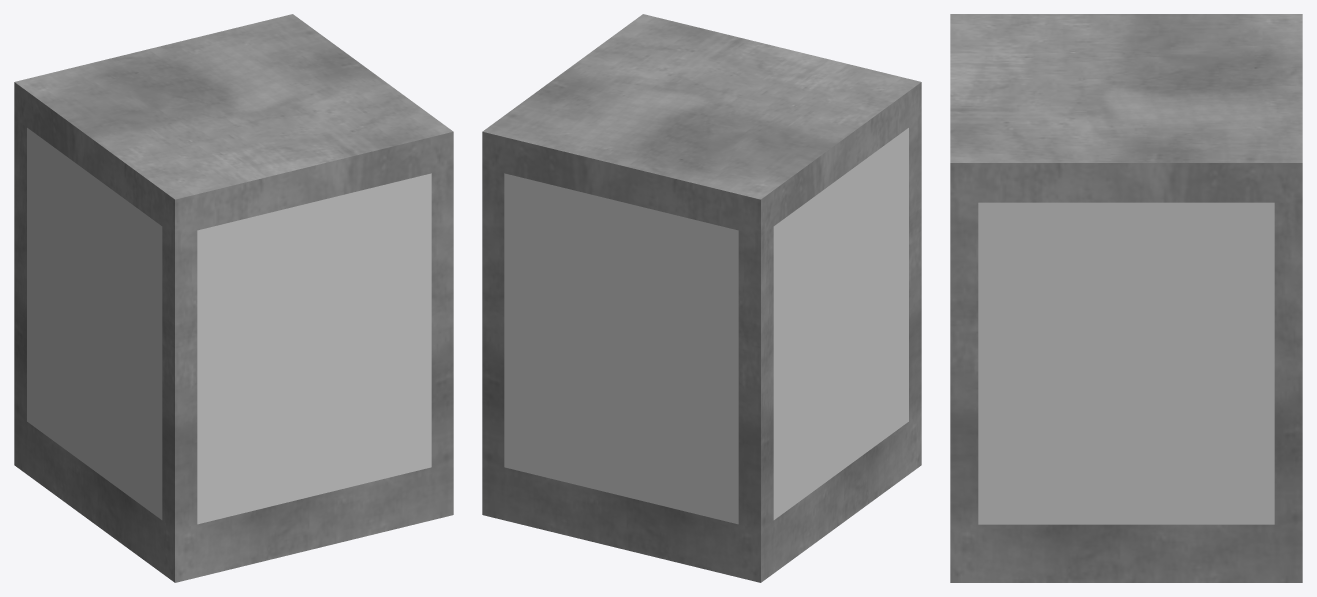
Rendered from AMB_HOME_ELE.glb.
The picture shows the model from 3 angles, left to right: view 1: azimuth 30°, elevation 25°; view 2: azimuth 150°, elevation 25°; view 3: azimuth 270°, elevation 25°; orthographic projection. The views are drawn at different scales.
Visible parts, largest first — view 1: BASE; view 2: BASE; view 3: BASE.
Part boxes in pixels (x1,y1,x2,y2): BASE: [14, 14, 453, 582]; BASE: [482, 14, 921, 582]; BASE: [950, 14, 1302, 582].
Size of the model in its own units: 6.66 by 8.75 by 6.66.
3 materials, 2 textured.
